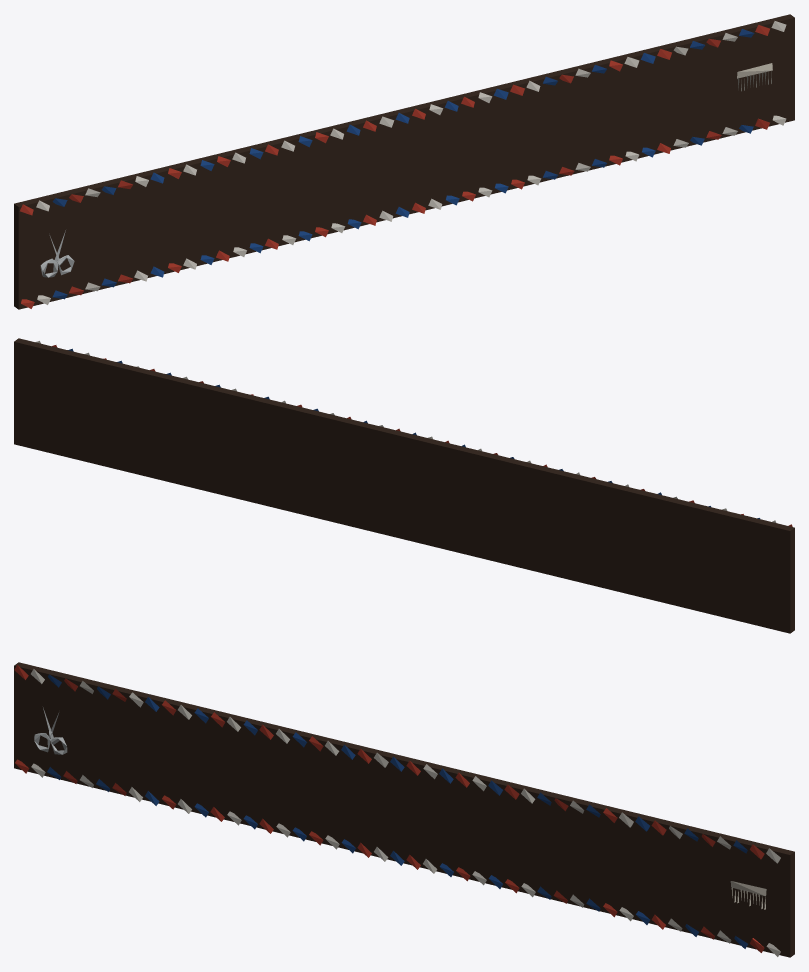
File: bang_hot_toc_anh_ba_60.glb
The picture shows the model from 3 angles, top to bottom: view 1: azimuth 30°, elevation 25°; view 2: azimuth 150°, elevation 25°; view 3: azimuth 330°, elevation 25°; orthographic projection.
Parts seen in each view (by area): view 1: bang_hot_toc_anh_ba_60; view 2: bang_hot_toc_anh_ba_60; view 3: bang_hot_toc_anh_ba_60.
Boxes of the visible parts, box(x1,y1,x2,y2) form: bang_hot_toc_anh_ba_60: box(14, 14, 794, 309); bang_hot_toc_anh_ba_60: box(14, 338, 794, 633); bang_hot_toc_anh_ba_60: box(14, 662, 794, 957).
Size of the model in its own units: 5.7 by 0.7518 by 0.0909.
